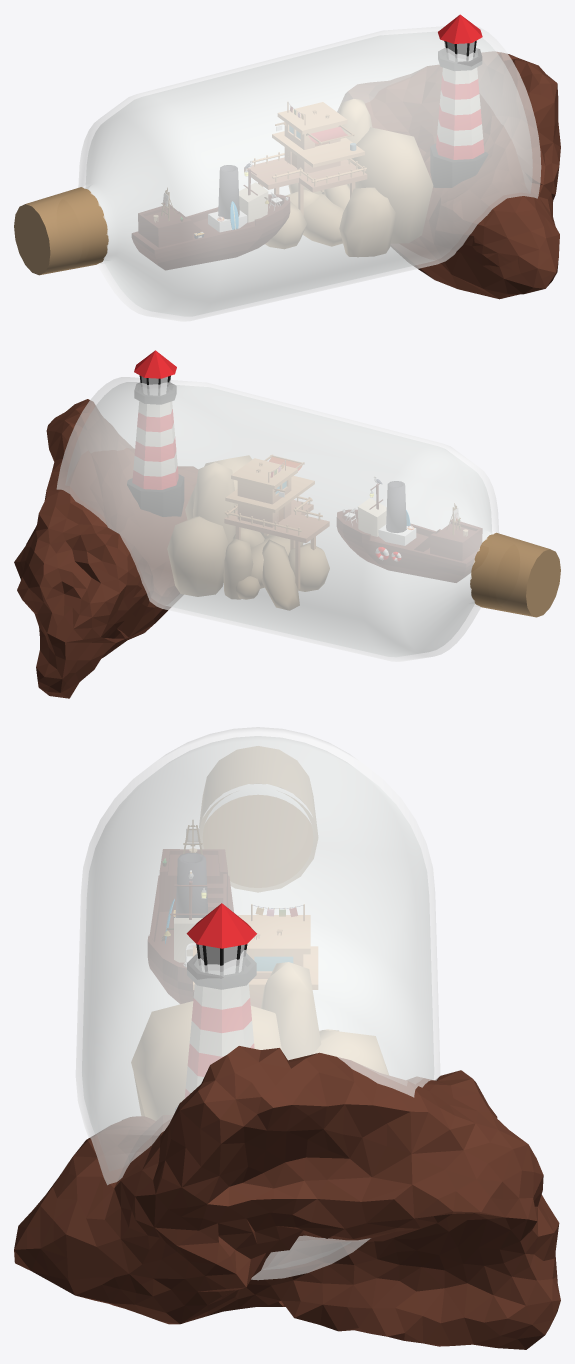
File: scene_baked.glb
3 renders of one model, top to bottom at view 1: azimuth 30°, elevation 25°; view 2: azimuth 150°, elevation 25°; view 3: azimuth 270°, elevation 25°, orthographic. The views are drawn at different scales.
Visible parts, largest first — view 1: Bottle.001, Back Mountain, Lighthouse, Beachhouse, Ship_Body, pCube31, pCube32, pCube42, pCube30, Funnel, pCube41, Cabin (+2 smaller); view 2: Bottle.001, Back Mountain, Lighthouse, Beachhouse, Ship_Body, pCube29, pCube30, pCube48, pCube41, pCube33, Funnel, Cabin (+4 smaller); view 3: Back Mountain, Bottle.001, Lighthouse, pCube31, Ship_Body, Beachhouse, pCube30, pCube29, Funnel, Cabin.
Boxes of the visible parts, <box> form: Bottle.001: <box>14,26,541,321</box>; Back Mountain: <box>337,52,560,299</box>; Lighthouse: <box>430,14,487,187</box>; Beachhouse: <box>244,102,366,215</box>; Ship_Body: <box>132,168,289,269</box>; pCube31: <box>349,127,432,243</box>; pCube32: <box>339,188,395,256</box>; pCube42: <box>303,193,343,246</box>; pCube30: <box>339,99,371,186</box>; Funnel: <box>218,165,239,218</box>; pCube41: <box>265,202,306,248</box>; Cabin: <box>239,182,267,222</box>; Bottle.001: <box>56,377,560,661</box>; Back Mountain: <box>14,399,197,698</box>; Lighthouse: <box>127,350,183,516</box>; Beachhouse: <box>224,455,329,589</box>; Ship_Body: <box>337,484,482,582</box>; pCube29: <box>167,516,228,596</box>; pCube30: <box>193,462,236,543</box>; pCube48: <box>262,540,299,610</box>; pCube41: <box>288,543,329,591</box>; pCube33: <box>224,539,252,599</box>; Funnel: <box>386,481,406,532</box>; Cabin: <box>358,498,386,536</box>; Back Mountain: <box>14,1046,560,1349</box>; Bottle.001: <box>75,727,440,1280</box>; Lighthouse: <box>175,903,256,1111</box>; pCube31: <box>131,1001,282,1120</box>; Ship_Body: <box>148,849,233,1003</box>; Beachhouse: <box>193,904,317,1007</box>; pCube30: <box>261,962,320,1059</box>; pCube29: <box>313,1030,388,1074</box>; Funnel: <box>176,853,207,917</box>; Cabin: <box>174,918,202,962</box>.
Size of the model in its own units: 9.99 by 5.39 by 6.08.
